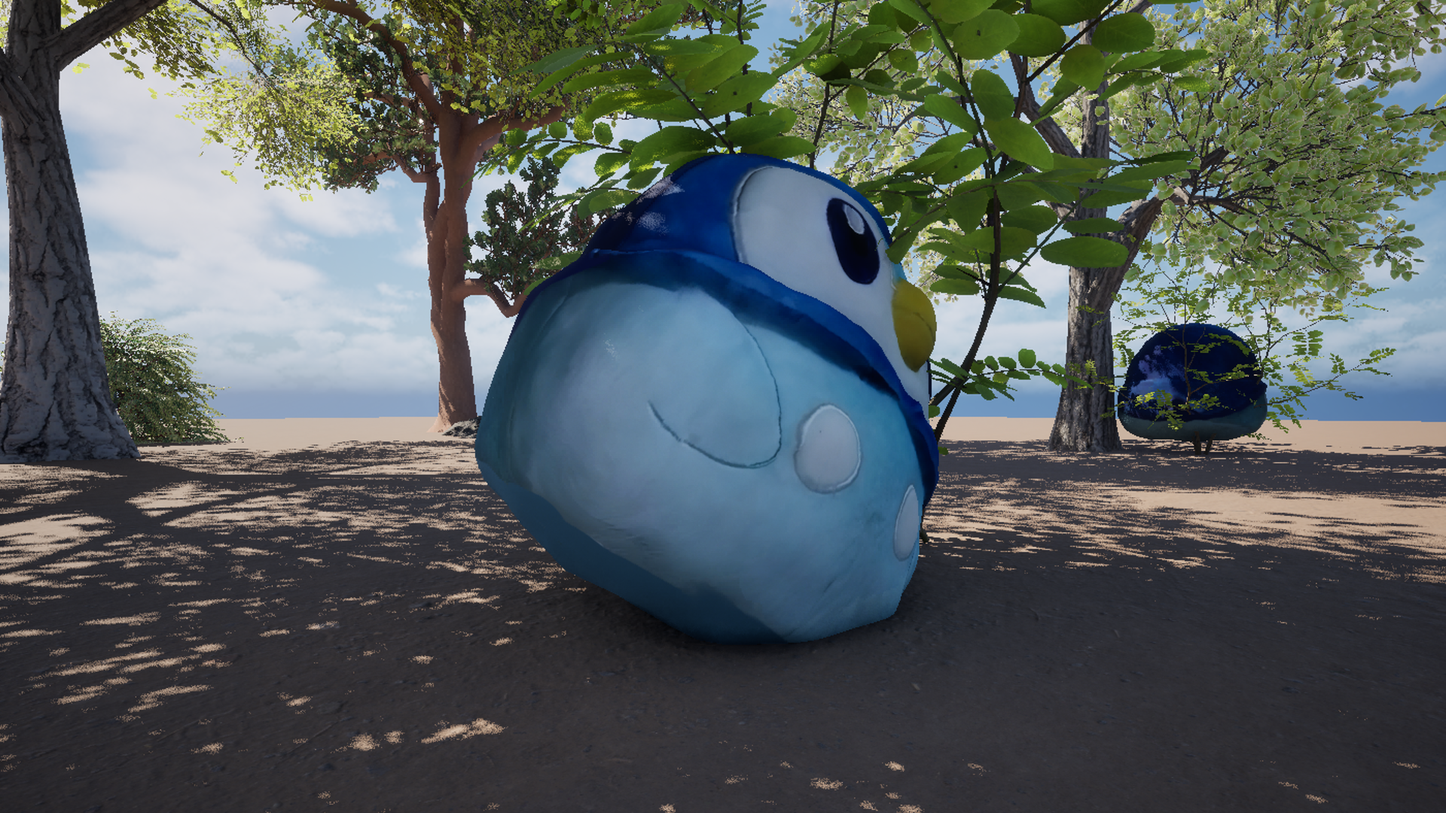Piplup: (288, 0, 1054, 813)
